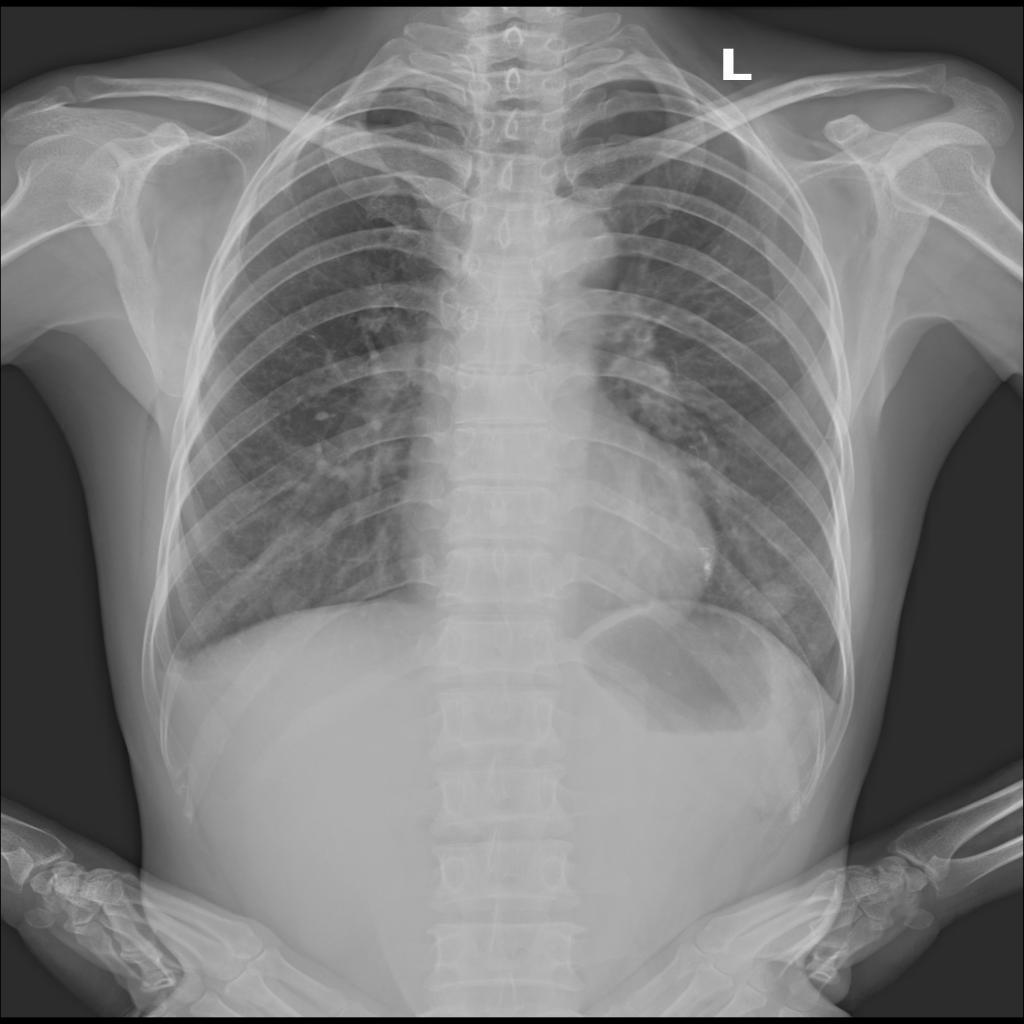Nodule: (748, 585, 794, 619), (276, 590, 303, 625)
